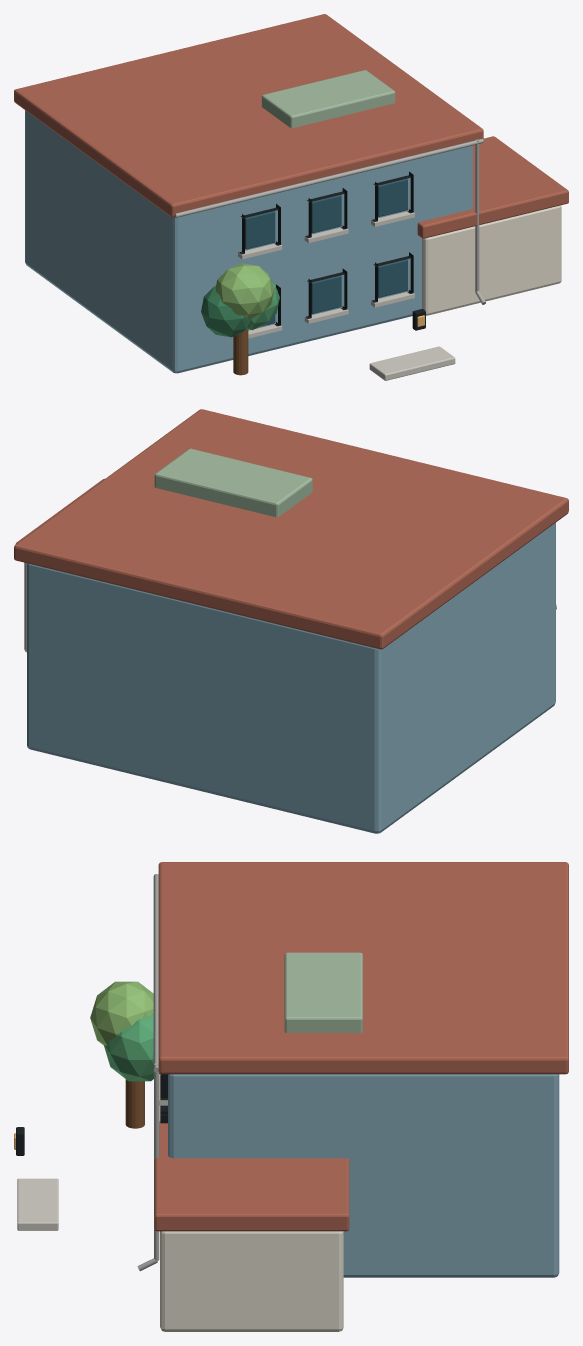
The model's file is RES_LUX_2x2_002.glb.
3 views of the same model, one above another, from view 1: azimuth 30°, elevation 25°; view 2: azimuth 150°, elevation 25°; view 3: azimuth 270°, elevation 25° (orthographic). The views are drawn at different scales.
Parts seen in each view (by area): view 1: RES_LUX_2x2_002_Visual; view 2: RES_LUX_2x2_002_Visual; view 3: RES_LUX_2x2_002_Visual.
Boxes of the visible parts, x1,y1,x2,y2 form: RES_LUX_2x2_002_Visual: (14,14,568,380); RES_LUX_2x2_002_Visual: (14,409,568,833); RES_LUX_2x2_002_Visual: (14,862,568,1331).
Size of what is drawn, in the model's own units: 3.7 by 1.67 by 3.47.
